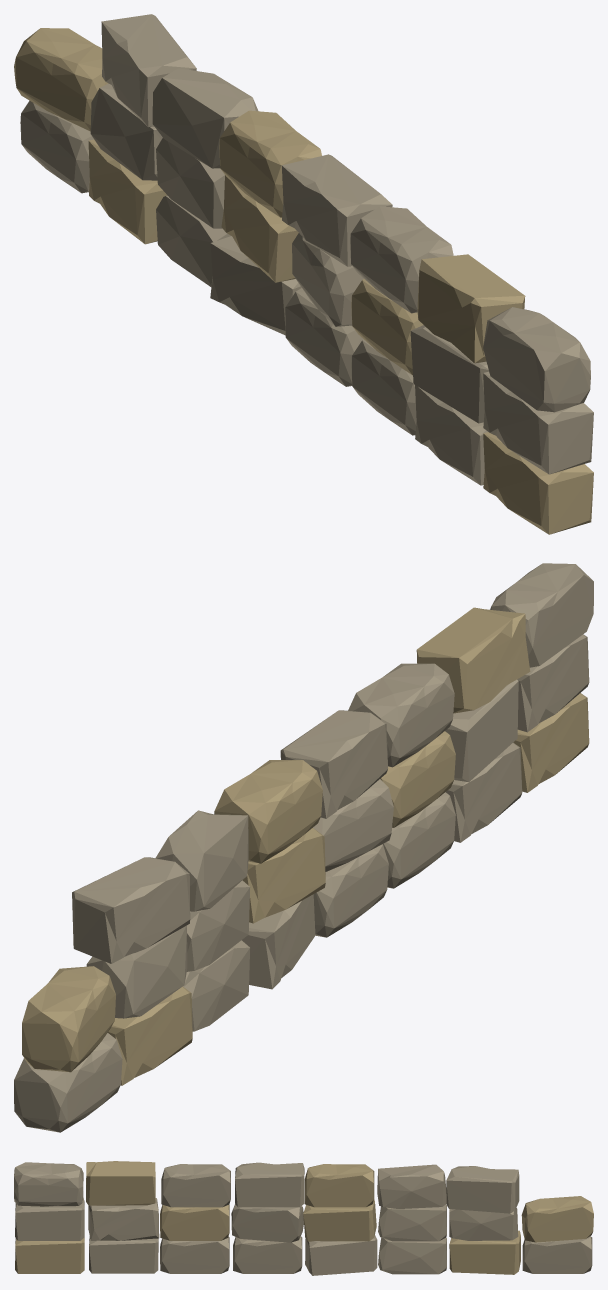
The model's file is SM_stone_block_wall_02.fbx.
The picture shows the model from 3 angles, top to bottom: view 1: azimuth 30°, elevation 25°; view 2: azimuth 150°, elevation 25°; view 3: azimuth 270°, elevation 25°; orthographic projection. The views are drawn at different scales.
Visible parts, largest first — view 1: stone_block_wall_02; view 2: stone_block_wall_02; view 3: stone_block_wall_02.
Boxes of the visible parts, left/top/right/bottom form: stone_block_wall_02: left=14, top=14, right=593, bottom=534; stone_block_wall_02: left=14, top=563, right=593, bottom=1132; stone_block_wall_02: left=14, top=1161, right=593, bottom=1275.
Size of the model in its own units: 48.25 by 115 by 607.
